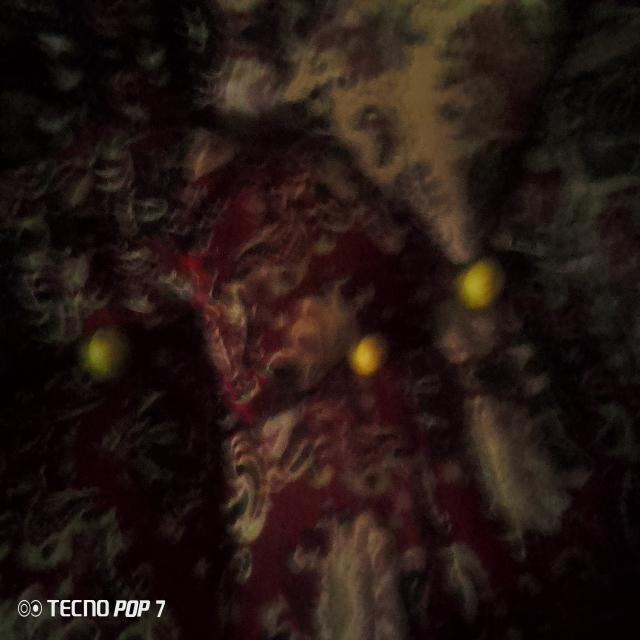Ripe orange: (445, 255, 513, 318), (84, 327, 128, 387), (341, 337, 396, 379)
